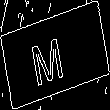M_N: (36, 25, 74, 85)
